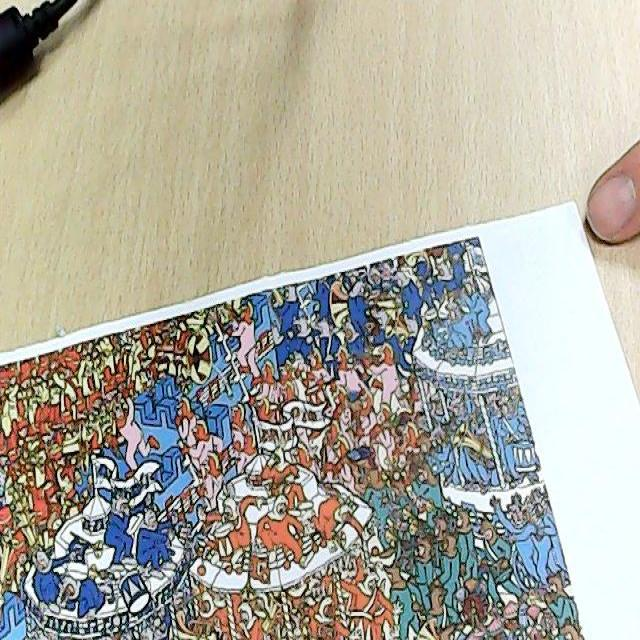waldo: (410, 406, 428, 435)
